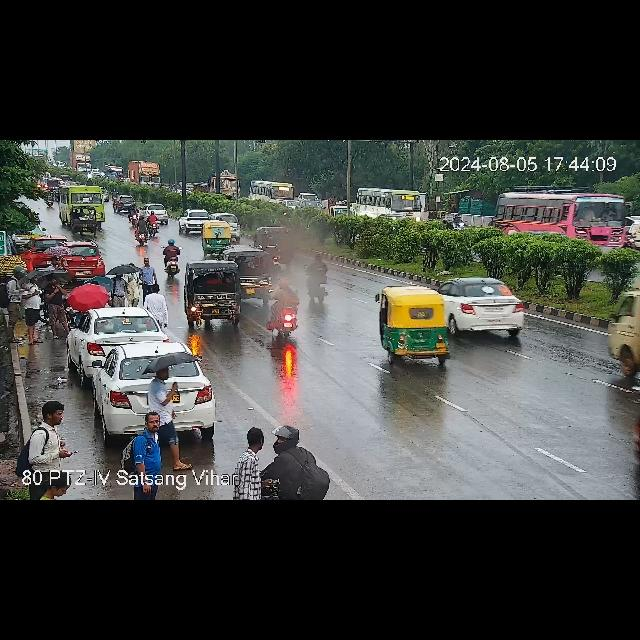bus: (492, 187, 638, 250), (346, 189, 436, 221), (55, 184, 113, 232), (252, 178, 296, 204)
car: (90, 341, 194, 432), (372, 278, 458, 368), (136, 347, 216, 429), (67, 306, 166, 364), (442, 274, 532, 336), (182, 260, 248, 326), (604, 288, 636, 399), (24, 240, 108, 278), (224, 243, 272, 299), (256, 225, 294, 267), (201, 220, 237, 250), (178, 209, 218, 233), (143, 203, 169, 219), (114, 195, 132, 213)
motorcycle: (258, 424, 329, 500), (271, 278, 297, 334), (304, 252, 332, 304), (39, 173, 75, 200), (161, 238, 181, 280), (618, 218, 640, 250), (266, 233, 284, 263), (144, 209, 162, 233), (135, 216, 149, 246), (126, 207, 142, 225)
person: (150, 362, 194, 470), (26, 402, 74, 500), (132, 417, 164, 498), (42, 273, 68, 335), (5, 264, 22, 340), (26, 270, 40, 344), (144, 282, 168, 324), (123, 262, 143, 308), (140, 256, 158, 292), (110, 270, 126, 308), (22, 248, 34, 270), (47, 256, 61, 270)
truck: (240, 426, 262, 500), (122, 154, 160, 188), (205, 174, 237, 198)
